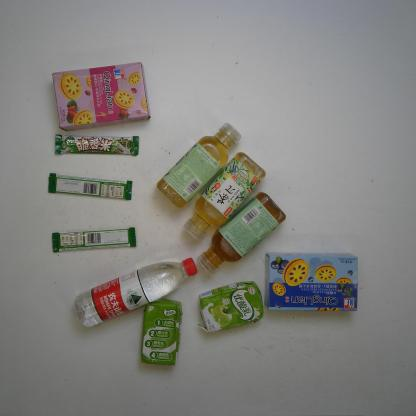Chocolate: (47, 172, 134, 203), (50, 226, 138, 253), (54, 133, 140, 158)
Dessert: (50, 61, 152, 132), (263, 250, 360, 312)
Drink: (74, 256, 199, 329), (154, 119, 243, 210), (194, 190, 287, 275), (182, 150, 266, 243)
Milk: (195, 278, 265, 335), (138, 298, 184, 367)
